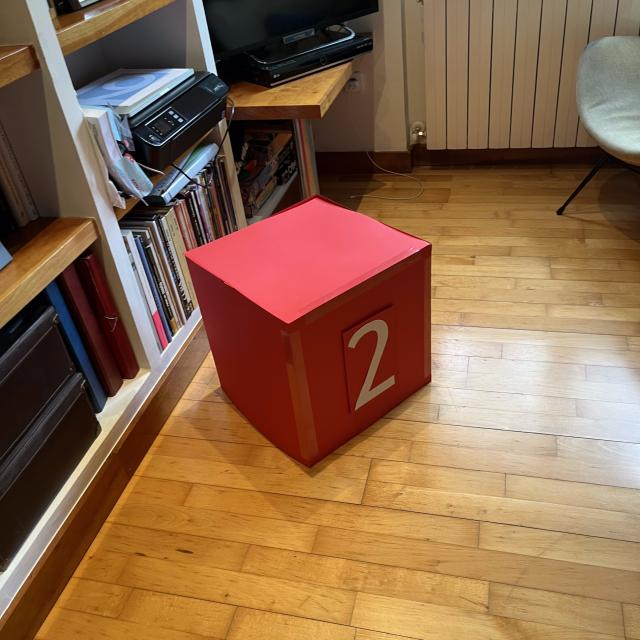box: (180, 191, 437, 470)
